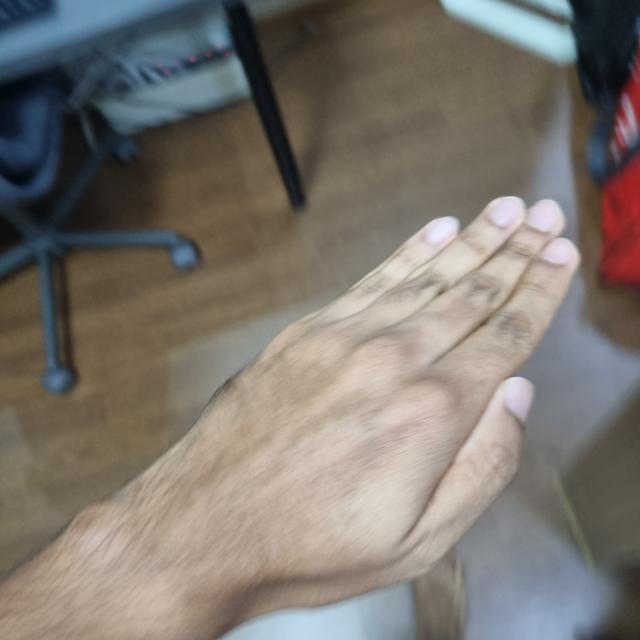Paper: (190, 200, 570, 609)
